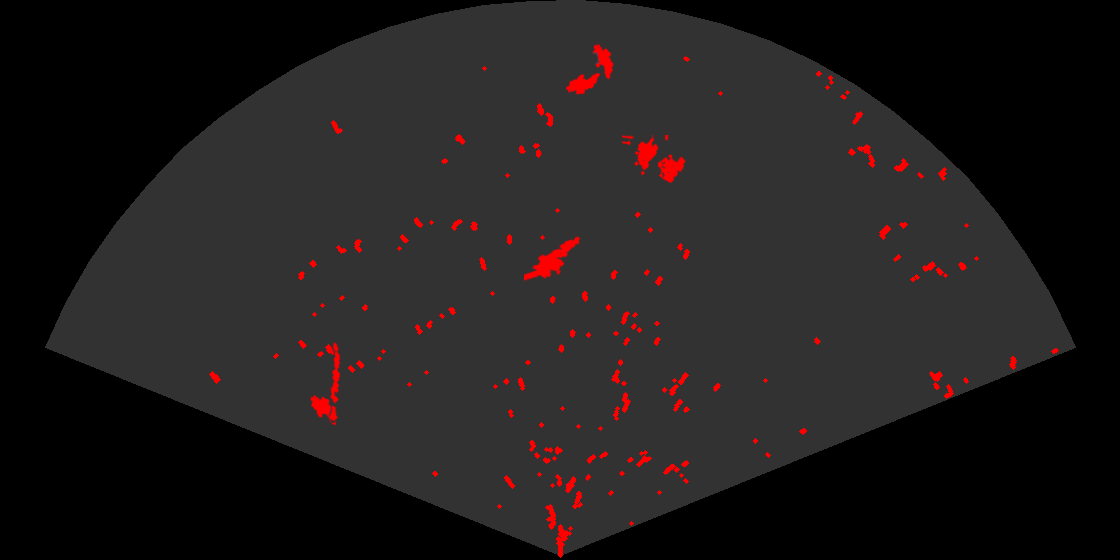AUV: (309, 394, 338, 427), (564, 71, 602, 96), (591, 42, 615, 81)
cage: (622, 135, 688, 185)
chain: (328, 341, 342, 423)
frogman: (524, 235, 582, 283)
